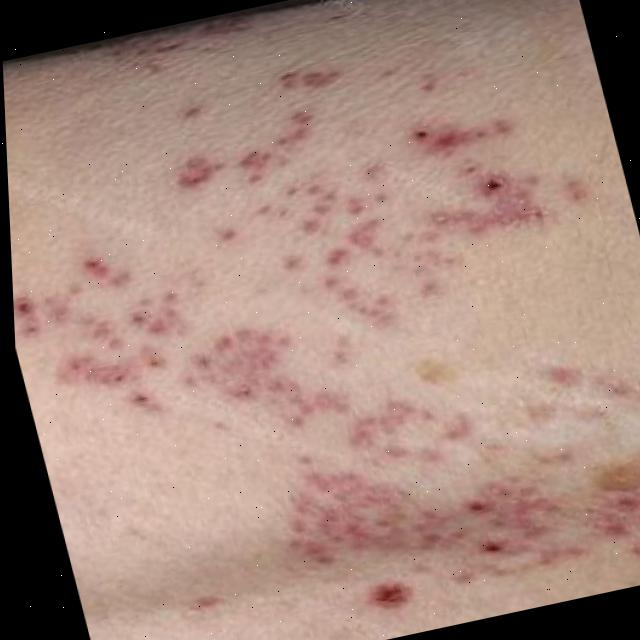Shingles: (1, 18, 640, 640)
